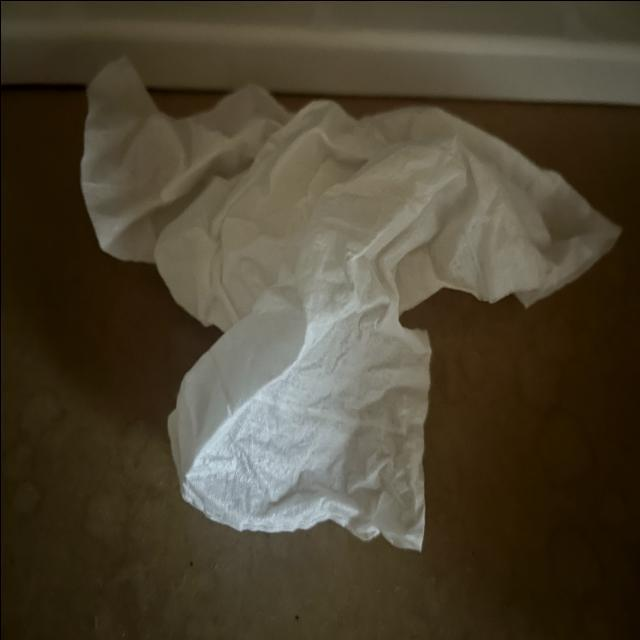Paper: (80, 51, 608, 531)
